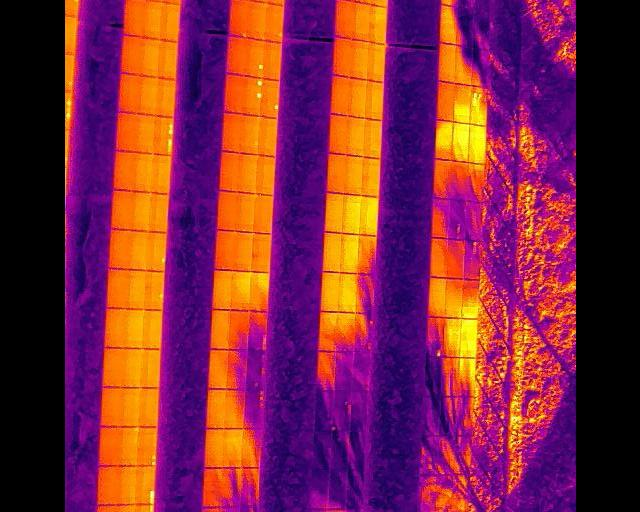Cell: (143, 271, 162, 310), (145, 231, 164, 270), (228, 0, 247, 38), (265, 4, 283, 42), (247, 38, 264, 77), (241, 115, 258, 154), (262, 79, 279, 118), (65, 0, 78, 16)
Cell-Multi: (154, 116, 172, 155), (245, 77, 262, 116), (138, 427, 155, 465), (470, 86, 485, 125)
No-Anomaly: (215, 191, 238, 231), (115, 112, 136, 152), (321, 232, 342, 272), (219, 152, 239, 193), (116, 427, 137, 466), (206, 351, 227, 390), (117, 73, 137, 113), (103, 308, 123, 348), (105, 269, 125, 309), (229, 271, 249, 311), (232, 232, 252, 272), (250, 233, 270, 273), (223, 76, 244, 114), (205, 390, 225, 429), (101, 348, 121, 387), (324, 194, 344, 233), (248, 272, 268, 311), (334, 0, 354, 39), (331, 37, 351, 76), (210, 310, 229, 351), (110, 189, 129, 230), (203, 429, 222, 469), (97, 465, 116, 505), (135, 113, 154, 153), (141, 309, 160, 349), (226, 38, 246, 76), (100, 387, 119, 427), (221, 428, 240, 468), (146, 192, 165, 232), (127, 230, 146, 270), (118, 387, 137, 427), (111, 150, 130, 190), (108, 229, 127, 269), (212, 270, 231, 310), (138, 387, 157, 427), (148, 154, 167, 194), (438, 7, 458, 45), (116, 466, 135, 505), (252, 194, 271, 233), (328, 115, 347, 154), (254, 156, 273, 195), (326, 154, 345, 193), (361, 158, 380, 197), (358, 197, 377, 236), (123, 308, 141, 349), (138, 38, 156, 78), (121, 348, 139, 388), (214, 230, 232, 270), (222, 113, 240, 153), (342, 195, 360, 235), (428, 278, 446, 318), (236, 193, 254, 233), (98, 426, 116, 465), (138, 348, 156, 387), (450, 123, 468, 162), (155, 77, 173, 116), (157, 40, 175, 79), (159, 1, 177, 40), (363, 120, 381, 159), (347, 78, 365, 117), (365, 81, 383, 120), (320, 273, 338, 312), (330, 77, 348, 116), (436, 83, 454, 121), (452, 84, 470, 122), (366, 44, 384, 82), (368, 6, 386, 44), (131, 152, 148, 192), (142, 0, 159, 40), (138, 75, 155, 115), (121, 35, 138, 75), (130, 191, 147, 231), (341, 234, 358, 274), (430, 238, 447, 278), (339, 273, 356, 313), (239, 154, 256, 194), (263, 41, 280, 81), (247, 0, 264, 40), (123, 0, 141, 37), (468, 125, 485, 164), (435, 121, 452, 160), (437, 44, 454, 82), (347, 118, 364, 156), (349, 40, 366, 78), (258, 117, 275, 155), (345, 156, 362, 194), (127, 269, 143, 309), (460, 319, 476, 358), (443, 318, 459, 357), (447, 278, 462, 319), (353, 3, 369, 41), (114, 504, 132, 512)
Shadowing: (447, 473, 470, 512), (246, 352, 268, 391), (315, 312, 337, 351), (334, 351, 355, 391), (308, 469, 329, 509), (347, 468, 367, 509), (243, 390, 264, 429), (201, 468, 221, 508), (327, 469, 347, 509), (247, 312, 267, 352), (424, 317, 444, 357), (333, 392, 353, 431), (315, 351, 334, 392), (431, 472, 450, 512), (228, 311, 247, 351), (357, 236, 377, 274), (348, 431, 368, 469), (240, 428, 259, 468), (454, 45, 473, 84), (455, 7, 474, 46), (227, 351, 246, 390), (240, 468, 259, 507), (430, 199, 449, 238), (356, 274, 375, 313), (448, 200, 466, 240), (467, 201, 485, 241), (354, 351, 372, 391), (353, 390, 371, 430), (432, 161, 450, 200), (439, 397, 457, 436), (222, 468, 240, 507), (356, 313, 374, 352), (337, 312, 355, 351), (225, 390, 243, 428), (467, 164, 485, 202), (314, 392, 332, 430), (313, 431, 331, 469), (330, 431, 348, 469), (446, 239, 463, 279), (450, 162, 467, 201), (458, 398, 474, 438), (443, 358, 459, 398), (461, 280, 477, 320), (458, 358, 474, 398), (463, 240, 479, 280), (423, 397, 439, 437), (425, 357, 441, 397), (473, 46, 487, 87), (475, 16, 488, 47), (474, 0, 492, 15), (458, 0, 475, 9)
Unclassified: (134, 465, 153, 504)
